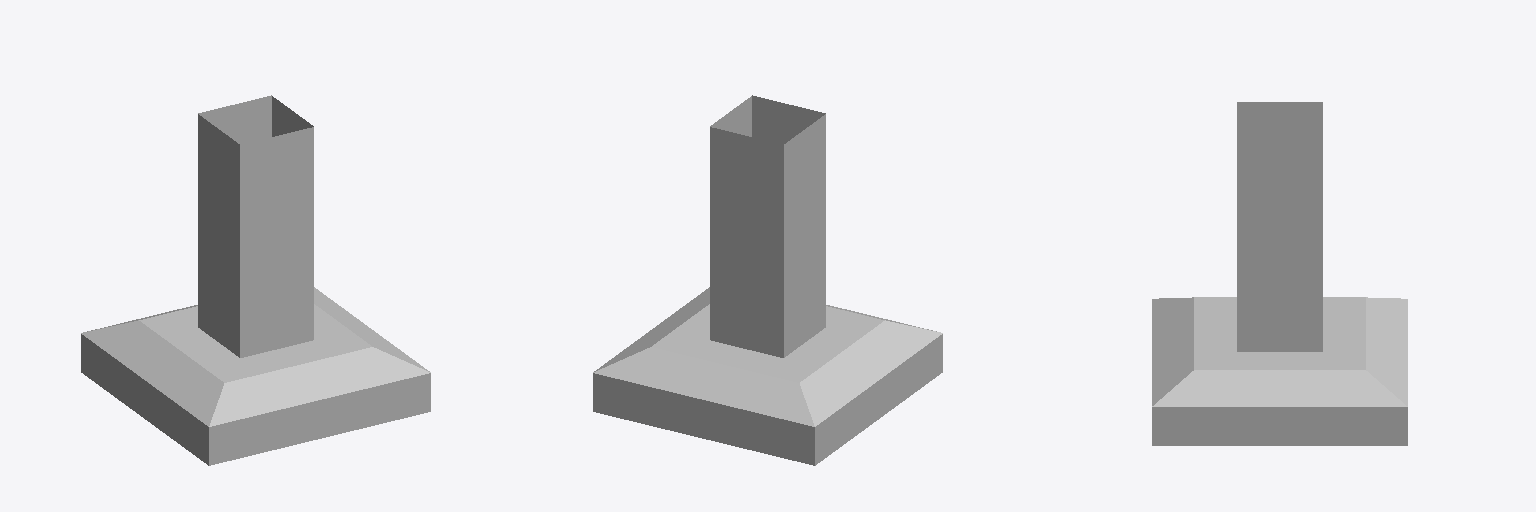
The model's file is metalPress_piston.obj.
3 renders of one model, left to right at view 1: azimuth 30°, elevation 25°; view 2: azimuth 150°, elevation 25°; view 3: azimuth 270°, elevation 25°, orthographic.
Visible parts, largest first — view 1: piston; view 2: piston; view 3: piston.
Part boxes in pixels (x1,y1,x2,y2): piston: (81, 95, 430, 465); piston: (593, 95, 942, 465); piston: (1152, 102, 1407, 445).
Size of the model in its own units: 0.75 by 0.875 by 0.75.